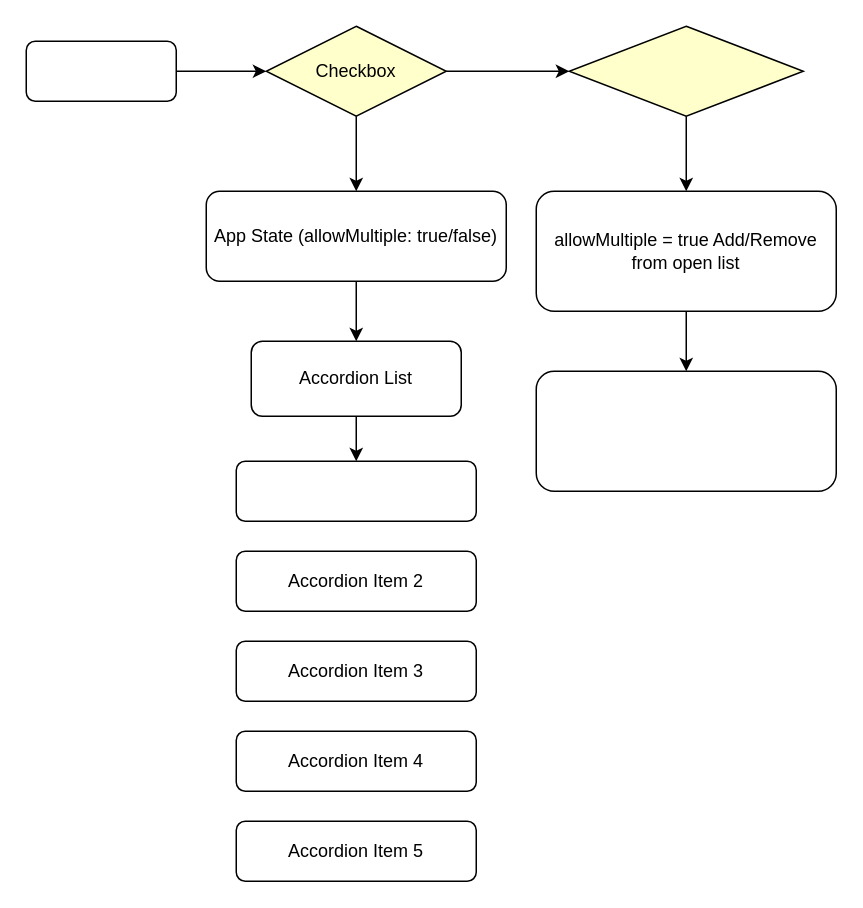
This 863x908 diagram has some shape labels left out. The shapes that lost their labels are listed below. From the top down, each one's centre as x and y in pixels, then its label:
At point 100,70: "User".
At point 685,70: "Click Accordion Title".
At point 685,430: "allowMultiple = false Close others and open clicked".
At point 355,490: "Accordion Item 1".
